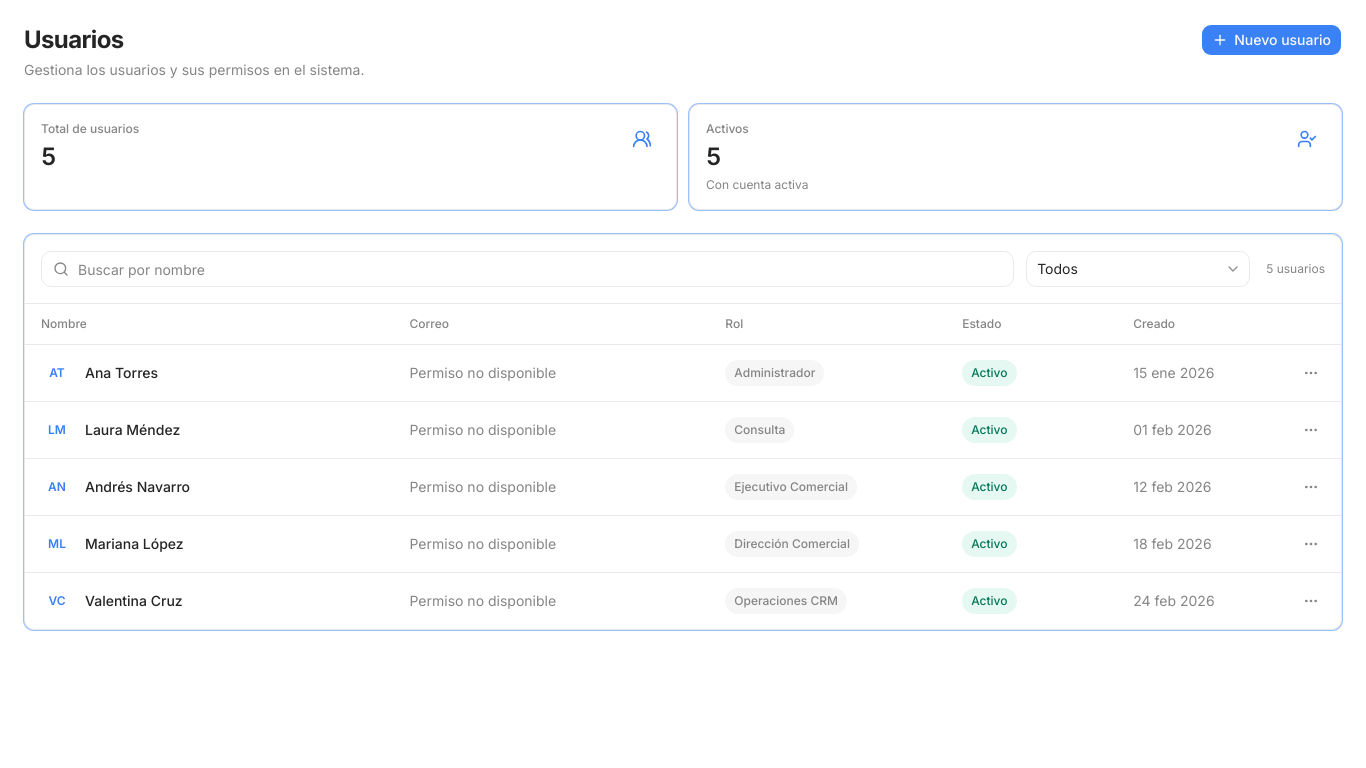
Test case: UsuariosListPage › filtra usuarios al escribir en el campo de búsqueda
Expected: the text "Ana Torres" is shown, [85,363,158,383]
Type "ana torres" into the search field with placeholder "Buscar por nombre" at (528, 269), box [41,251,1014,287]
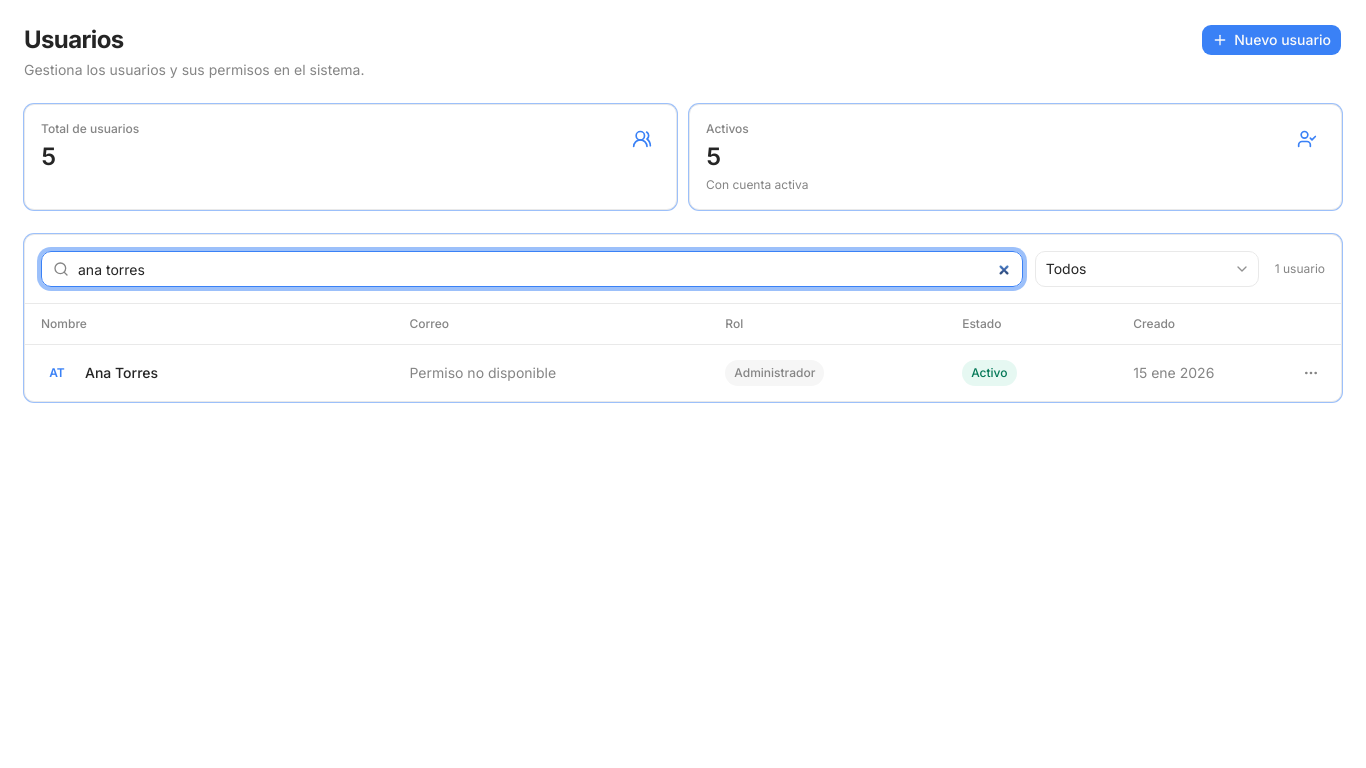
Expected: the text "Ana Torres" is shown, [85,363,158,383]
Result: the text "Laura Méndez" is gone
